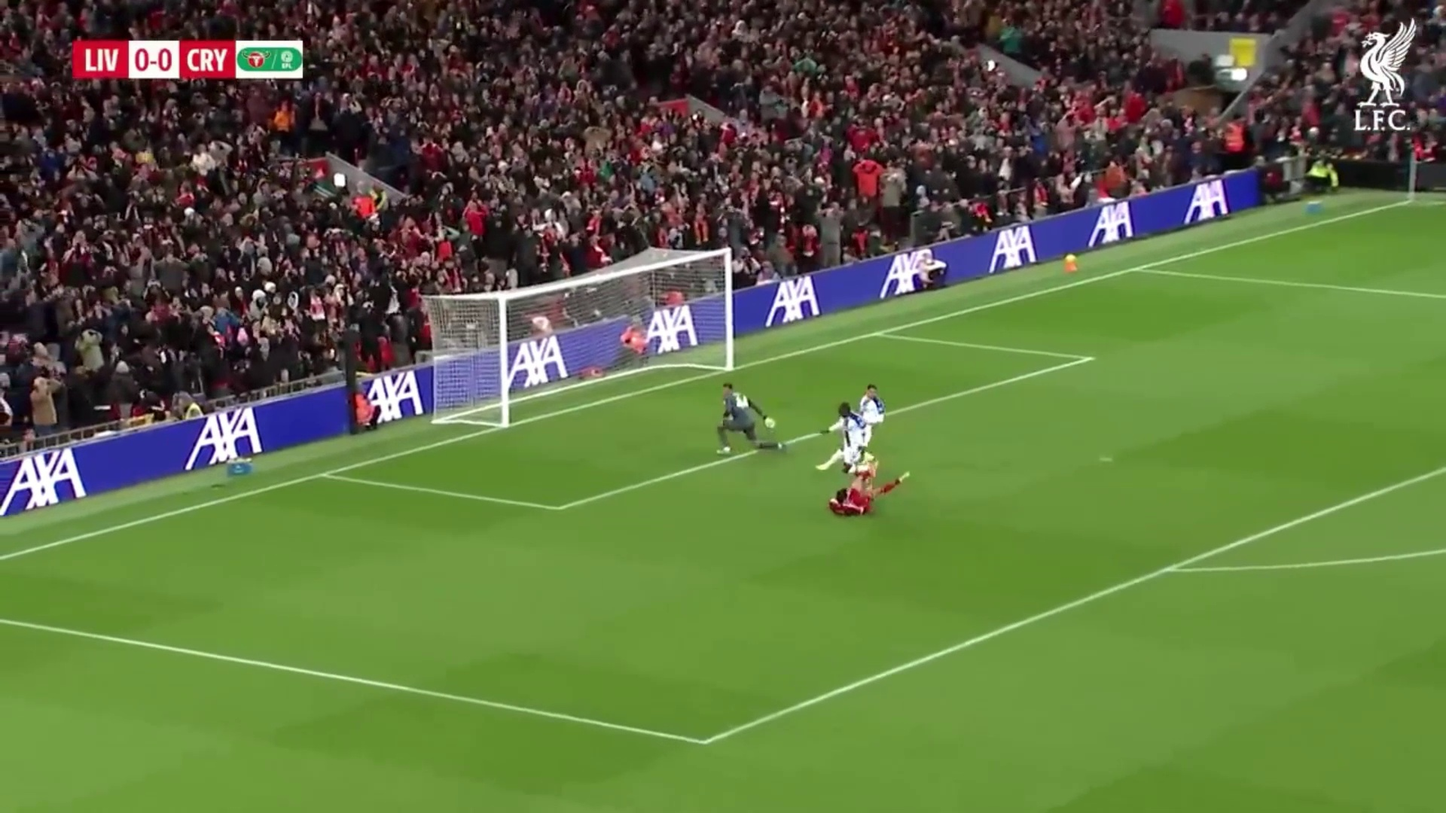player: (827, 456, 910, 519), (508, 313, 567, 393), (717, 385, 770, 456), (845, 384, 885, 473), (651, 287, 699, 356), (826, 403, 869, 475), (855, 384, 886, 469), (858, 385, 885, 428)
